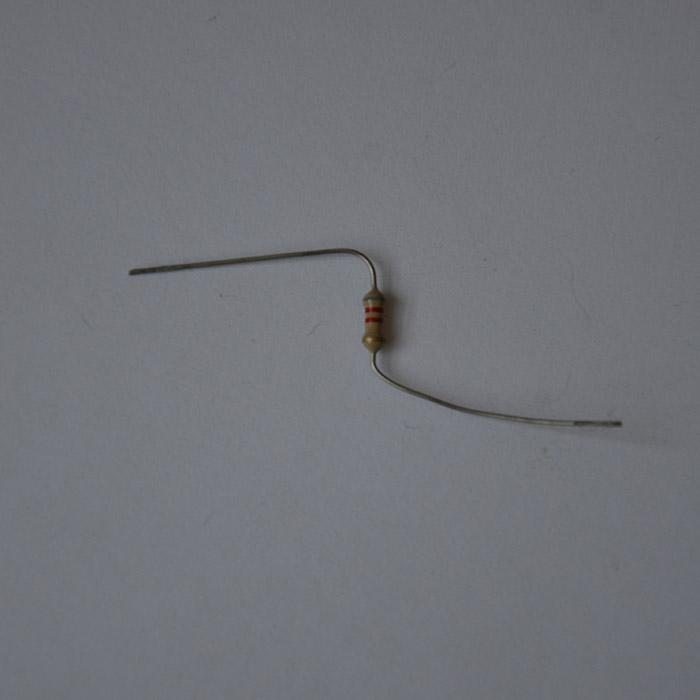resistor: (360, 289, 385, 351)
